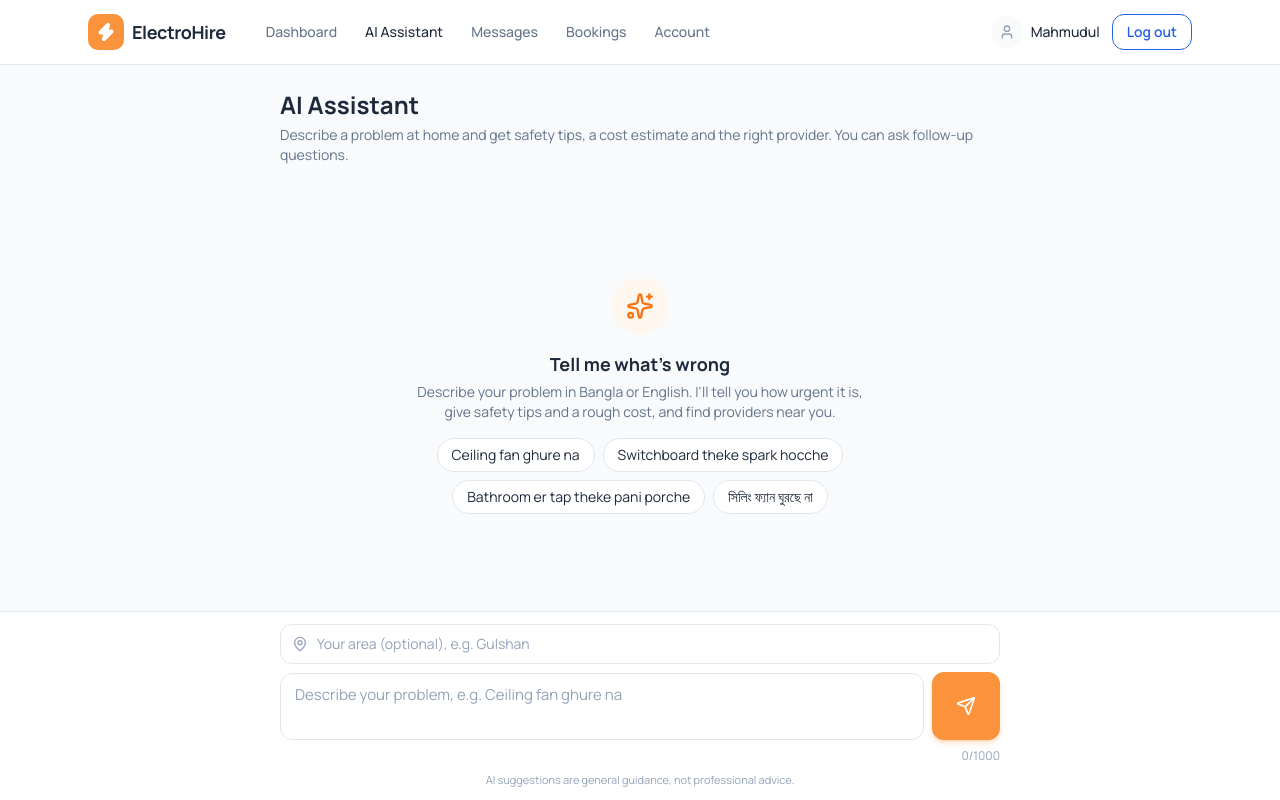
Test: AI answer sources (Tavily) › never renders a javascript: or other non-http(s) link
Type "Ceiling fan ghure na" into the text box labelled "Describe your problem, e.g. Ceiling fan ghure na".
click(602, 706); type("Ceiling fan ghure na")  # box top-left (280, 672), bottom-right (924, 740)
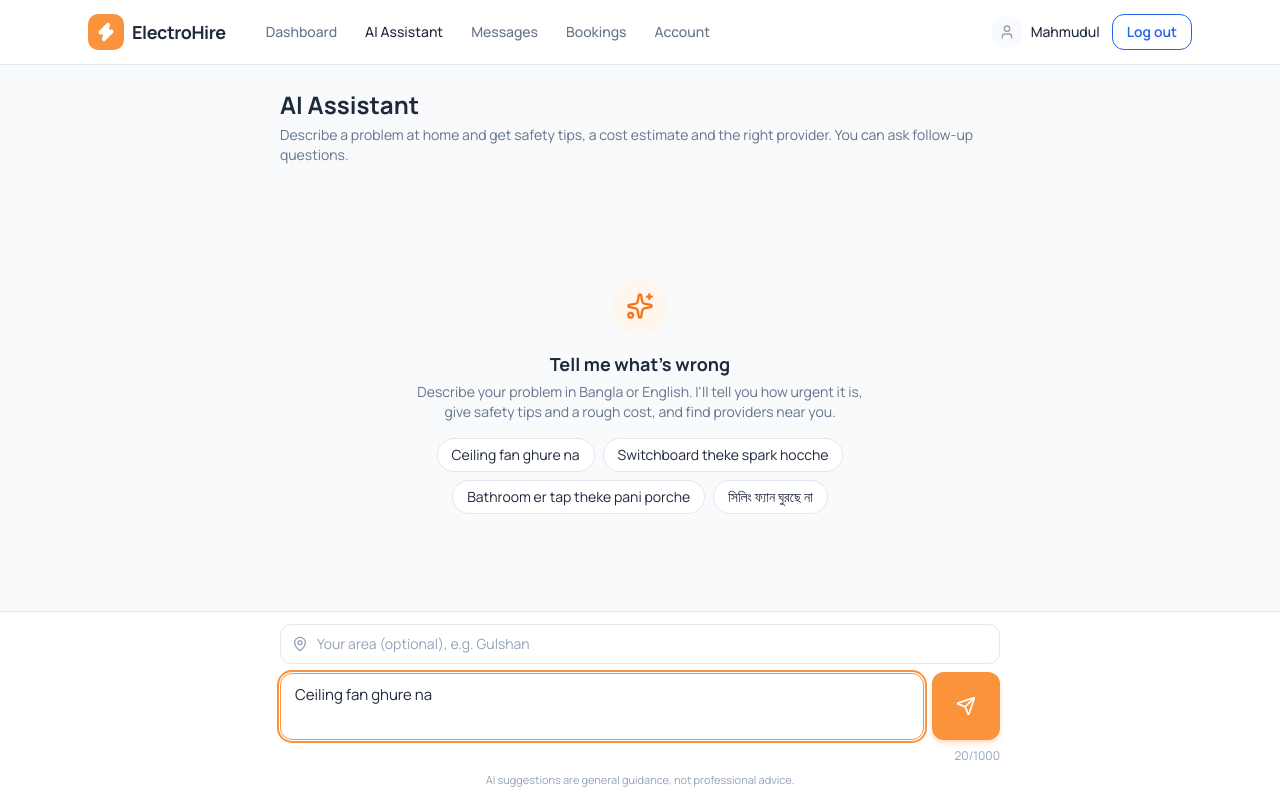
Click the button named "send".
click(966, 706)  # box top-left (932, 672), bottom-right (1000, 740)
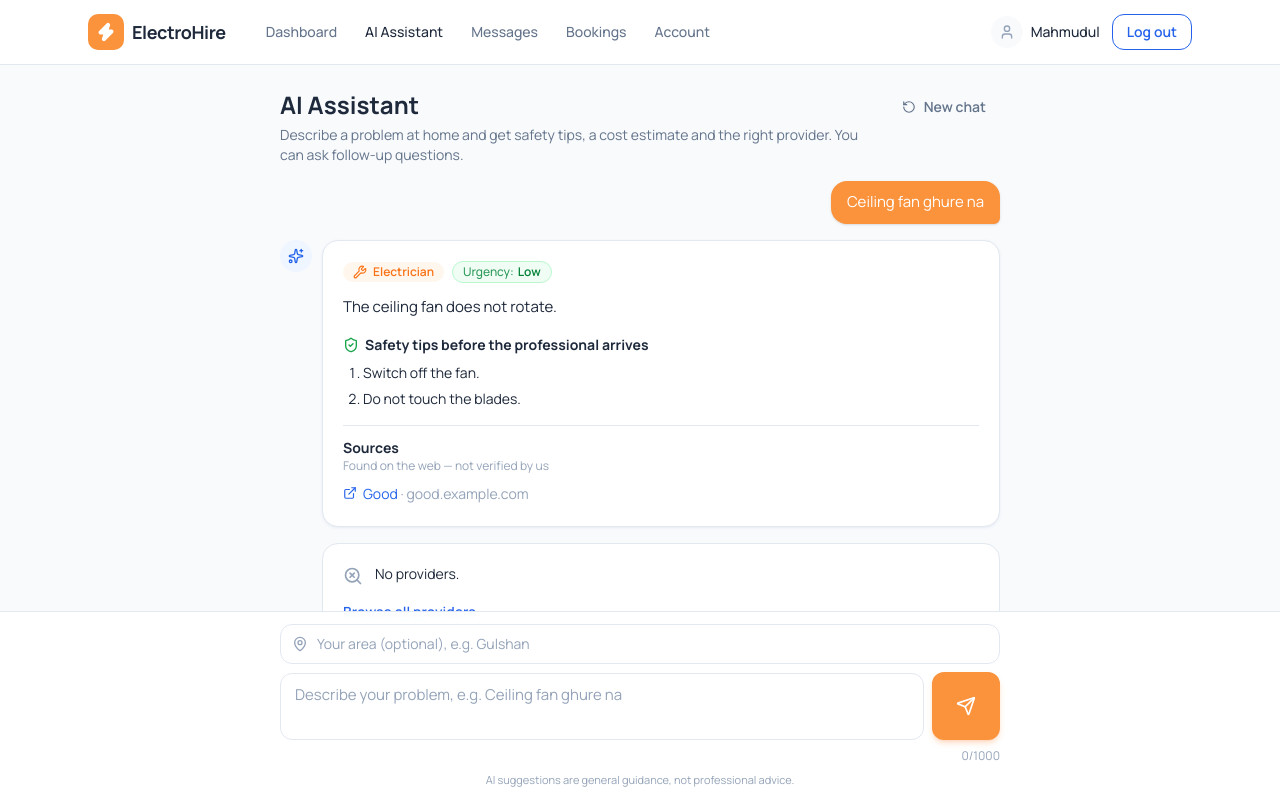
Now the link "Good · good.example.com" is shown, box top-left (343, 484), bottom-right (529, 504)
